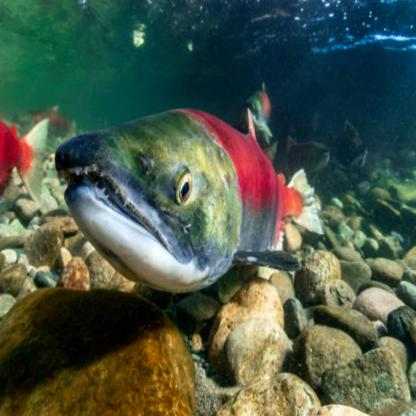sockeye: (52, 93, 323, 300)
